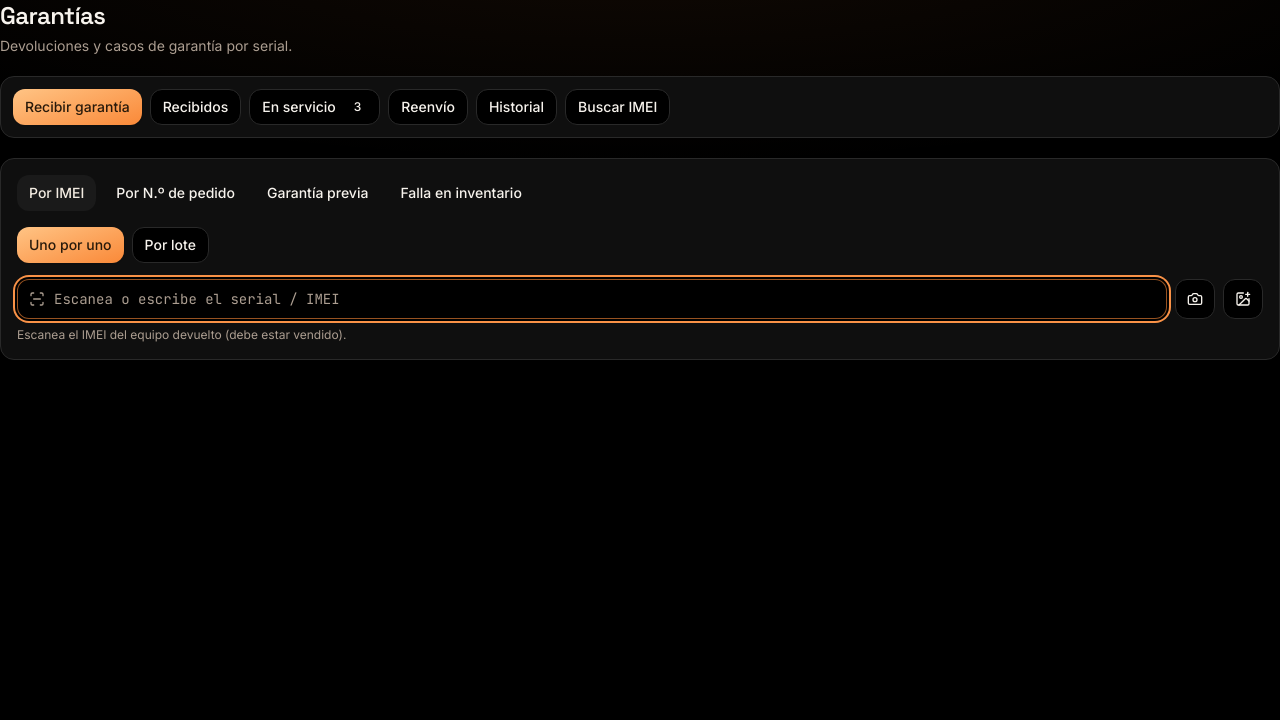
Test case: Garantías · Servicio ordenado por fecha de recepción › las más antiguas van primero, aunque una más nueva no haya tenido movimiento reciente
The width and height of the screenshot is (1280, 720).
Click the button "En servicio 3".
click(315, 107)  # box 249,89 -> 380,125
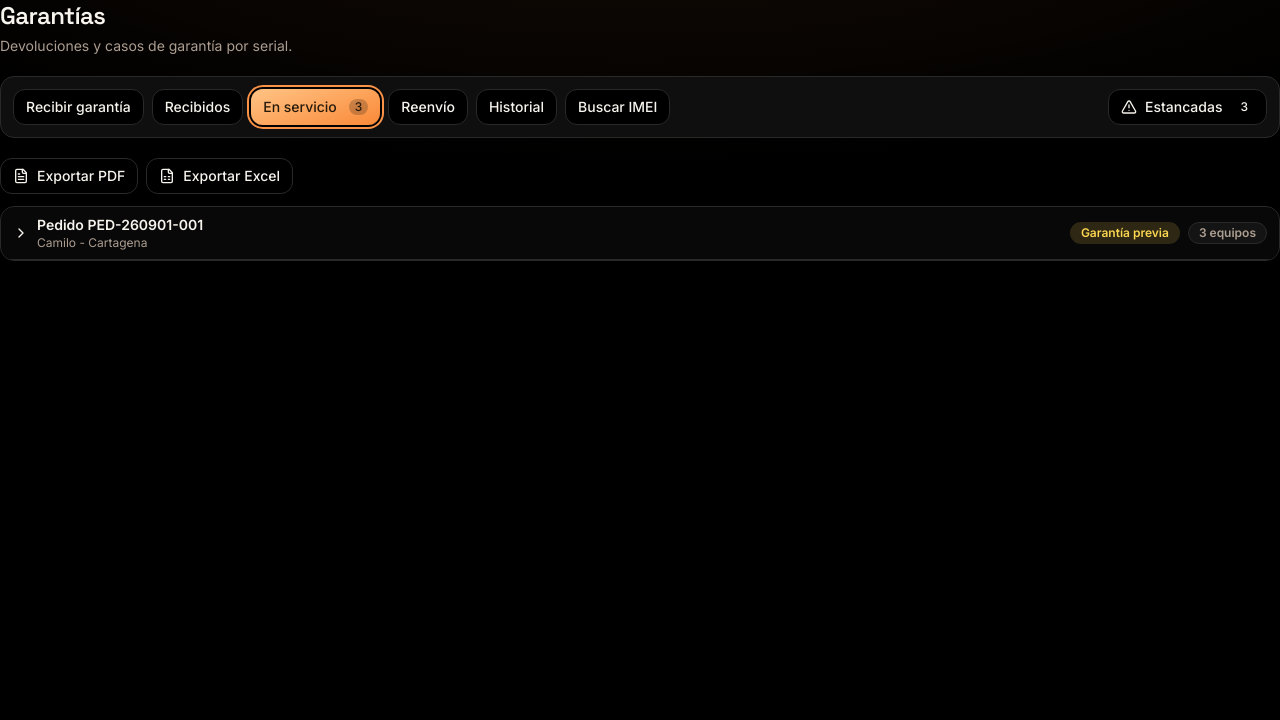
Click the button "Pedido PED-260901-001 Camilo - Cartagena".
click(120, 224)  # box 13,215 -> 1062,251
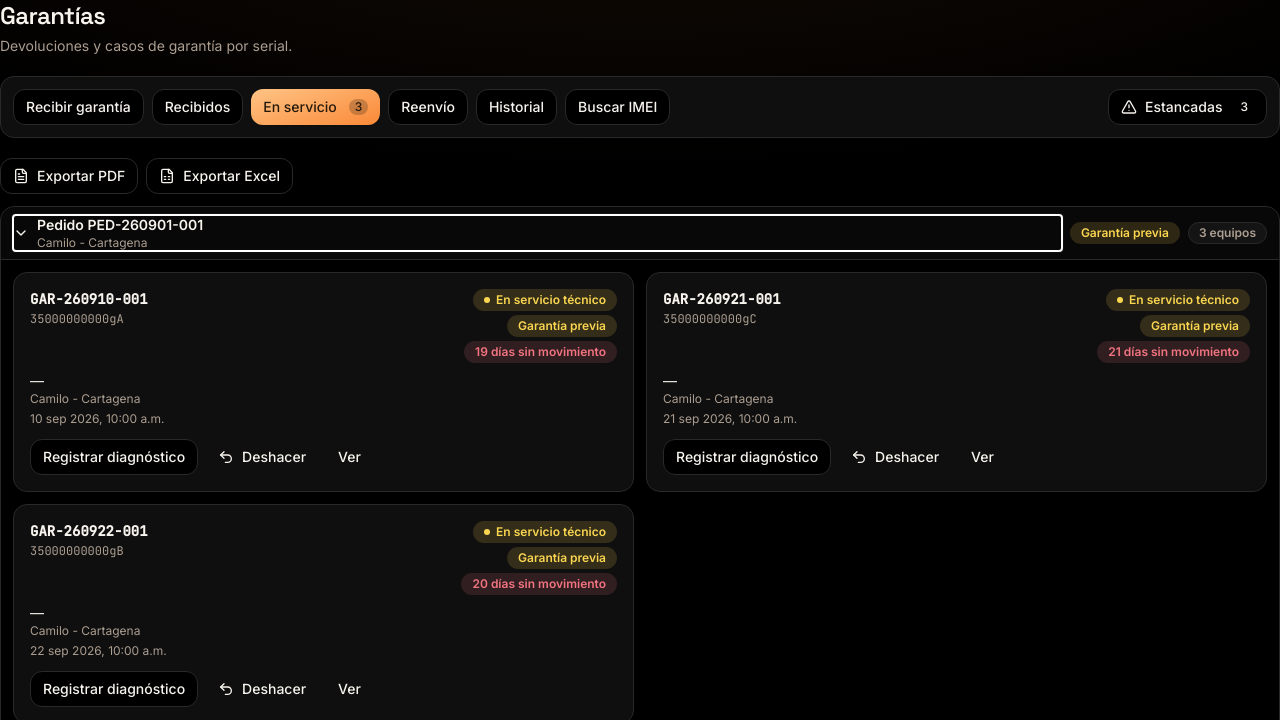
Check: the elements "GAR-" read "GAR-260910-001", "GAR-260921-001", "GAR-260922-001", in this order, box 30,289 -> 148,309; 663,289 -> 781,309; 30,521 -> 148,541
